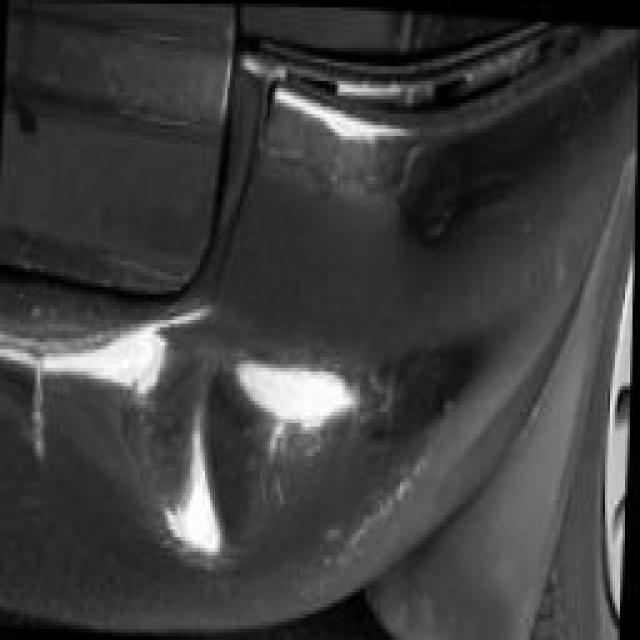Bumper: (15, 283, 444, 621)
